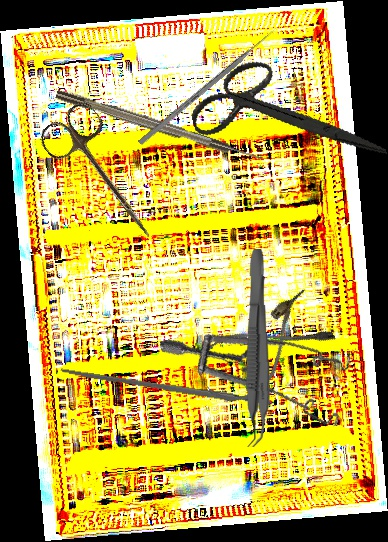Cannula: (189, 287, 338, 413)
Hook Surgical: (54, 87, 266, 166)
Iris Scissors: (181, 32, 388, 203), (34, 97, 177, 254)
Pusher: (137, 26, 279, 146)
Scalpel Handle: (59, 366, 274, 409)
Speculum: (159, 300, 365, 461)
Tissue Forceps: (237, 248, 273, 448)
